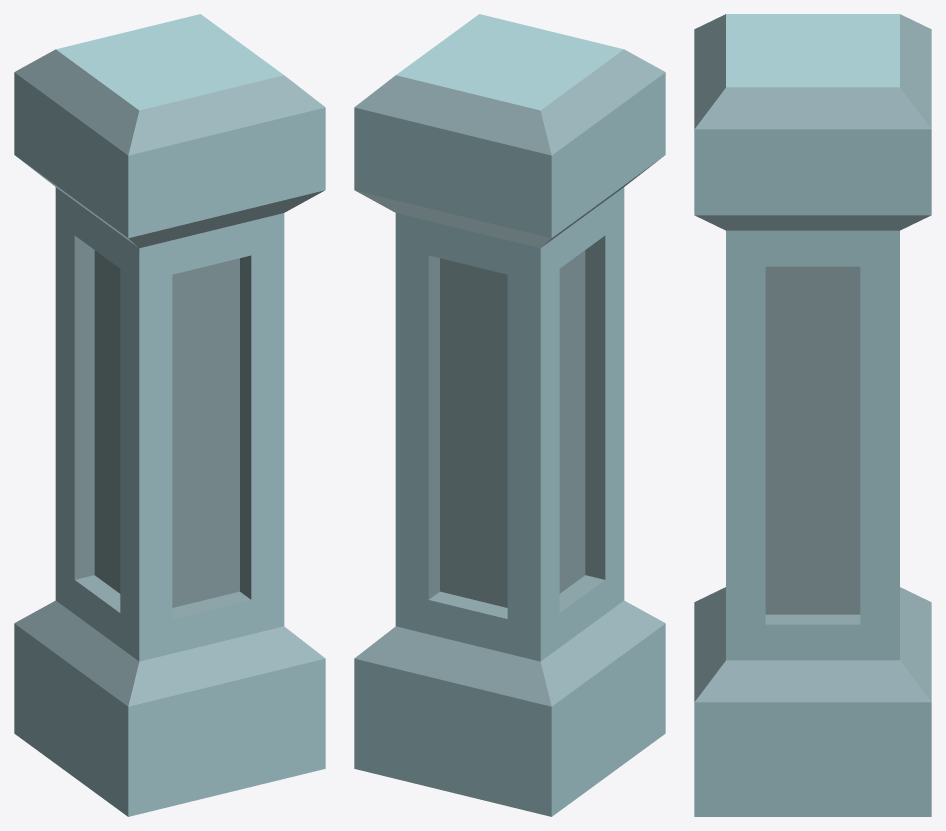
The model's file is statue-column.glb.
3 renders of one model, left to right at view 1: azimuth 30°, elevation 25°; view 2: azimuth 150°, elevation 25°; view 3: azimuth 270°, elevation 25°, orthographic. The views are drawn at different scales.
Visible parts, largest first — view 1: statue_column; view 2: statue_column; view 3: statue_column.
Boxes of the visible parts, left/top/right/bottom form: statue_column: left=14, top=14, right=325, bottom=816; statue_column: left=354, top=14, right=665, bottom=816; statue_column: left=694, top=14, right=931, bottom=816.
Bounding box in the file's own units: 0.3 × 1 × 0.3.
